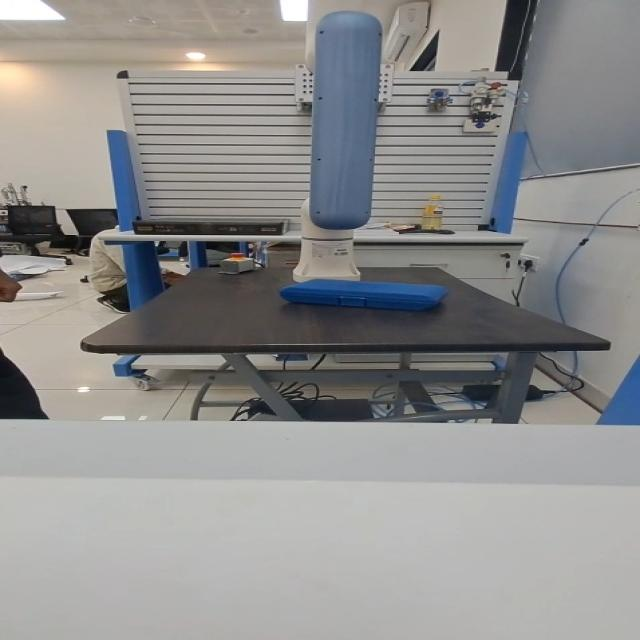top-surface: (303, 282, 428, 292)
